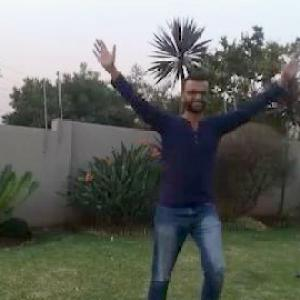takeoff: (88, 47, 284, 299)
